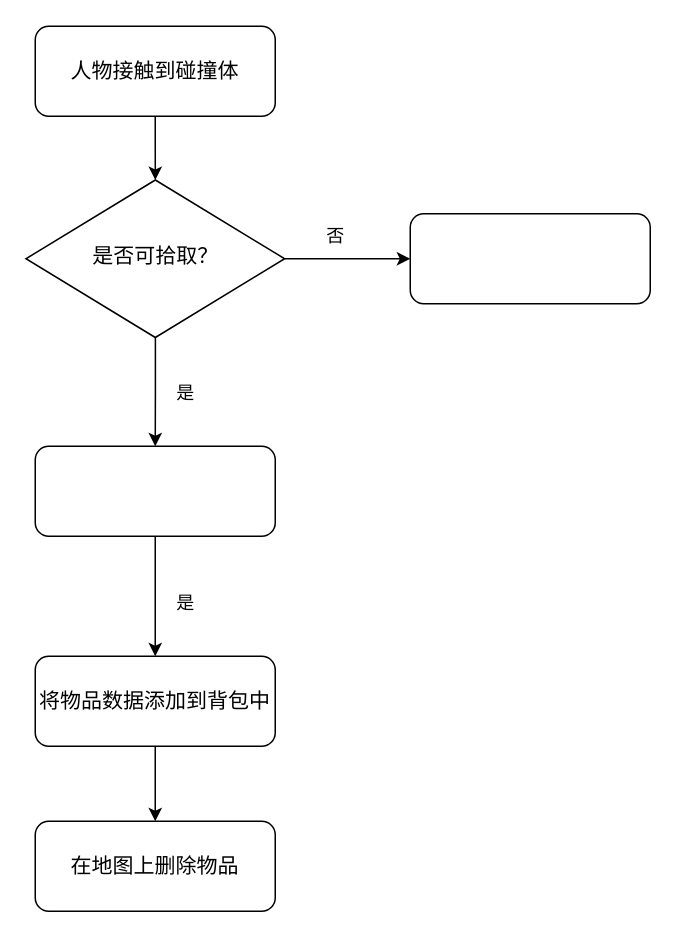
Image size: 678x938. Some labels were removed from this diagram. Each missing label, with the box of its shape:
发生碰撞: (409, 212, 650, 304)
获取物品信息: (34, 445, 275, 536)
